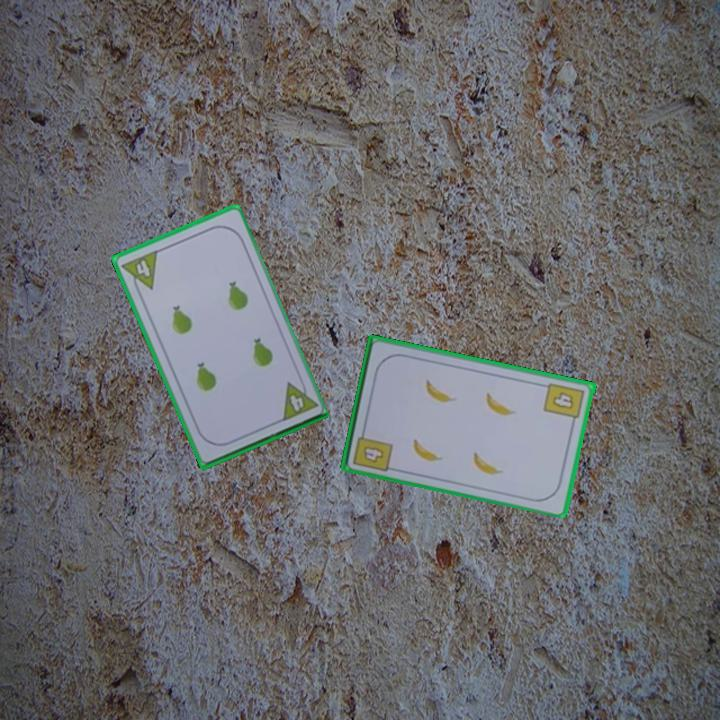4b: (541, 379, 588, 428), (360, 442, 387, 466)
4p: (118, 246, 160, 297), (277, 374, 319, 424)
